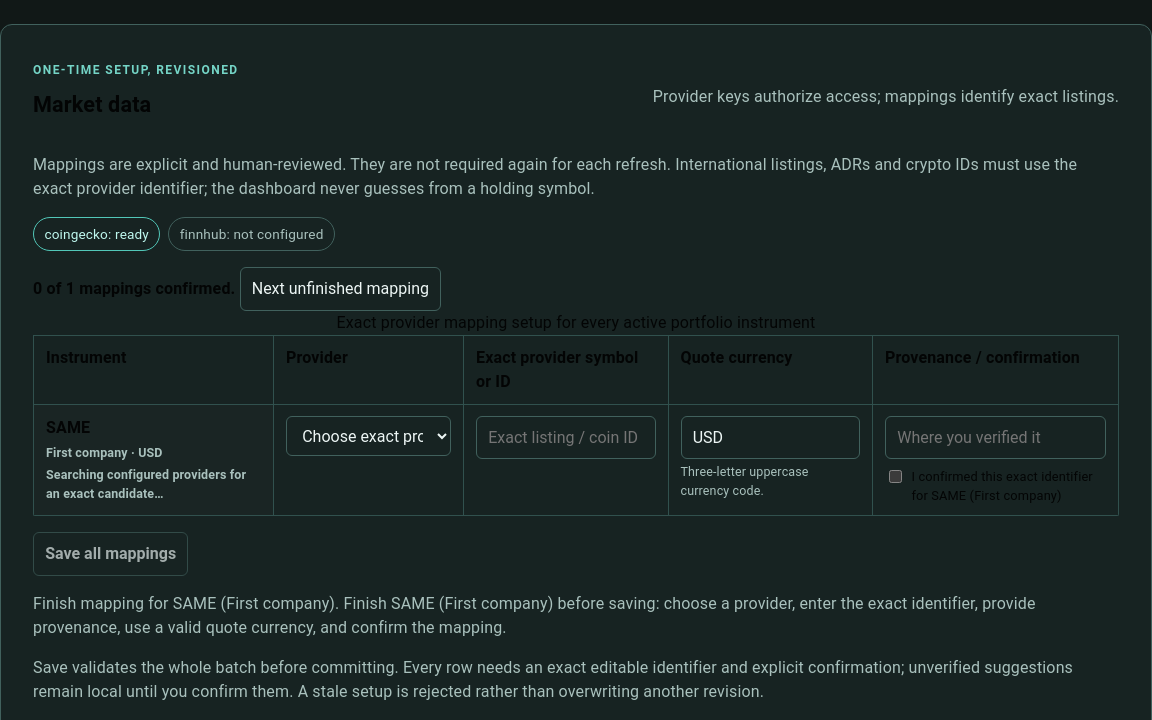
Scenario: MarketDataPanel › blocks a mapping with invalid quote currency USDD without a save request
This screenshot has width=1152, height=720.
Select "coingecko" in the dropdown: (368, 436) left=286, top=416, right=451, bottom=456
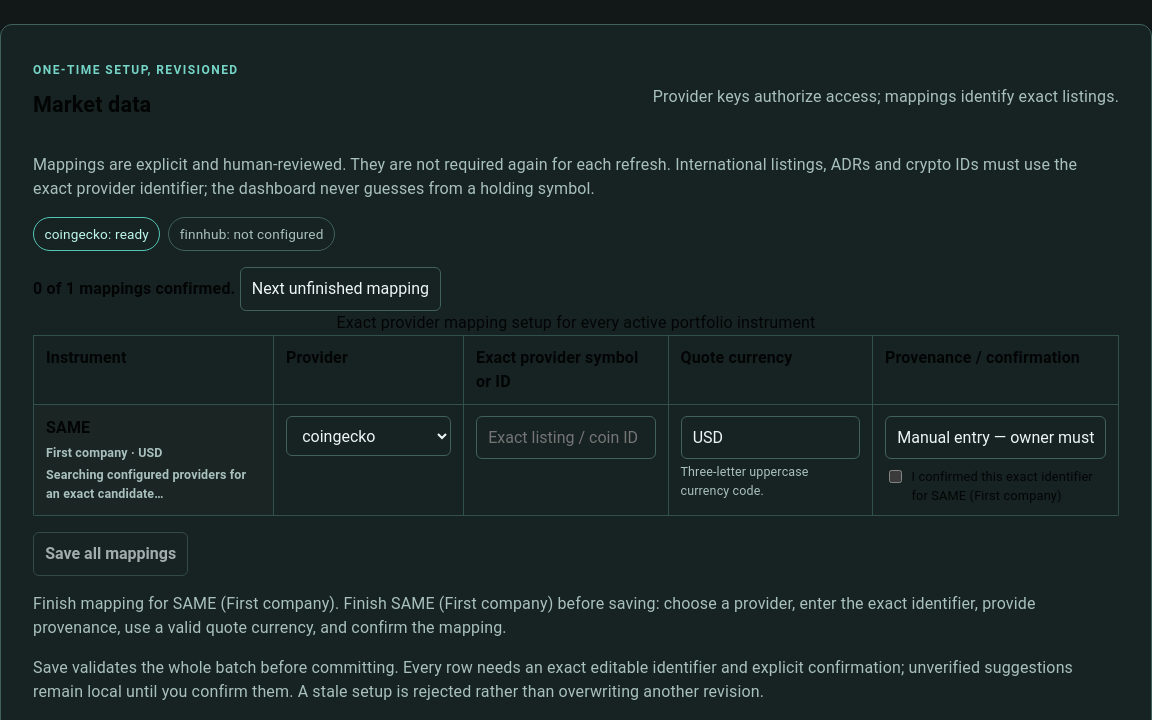
In the field with placeholder "Exact listing / coin ID": (566, 438) left=476, top=416, right=656, bottom=459, type "coin-0"
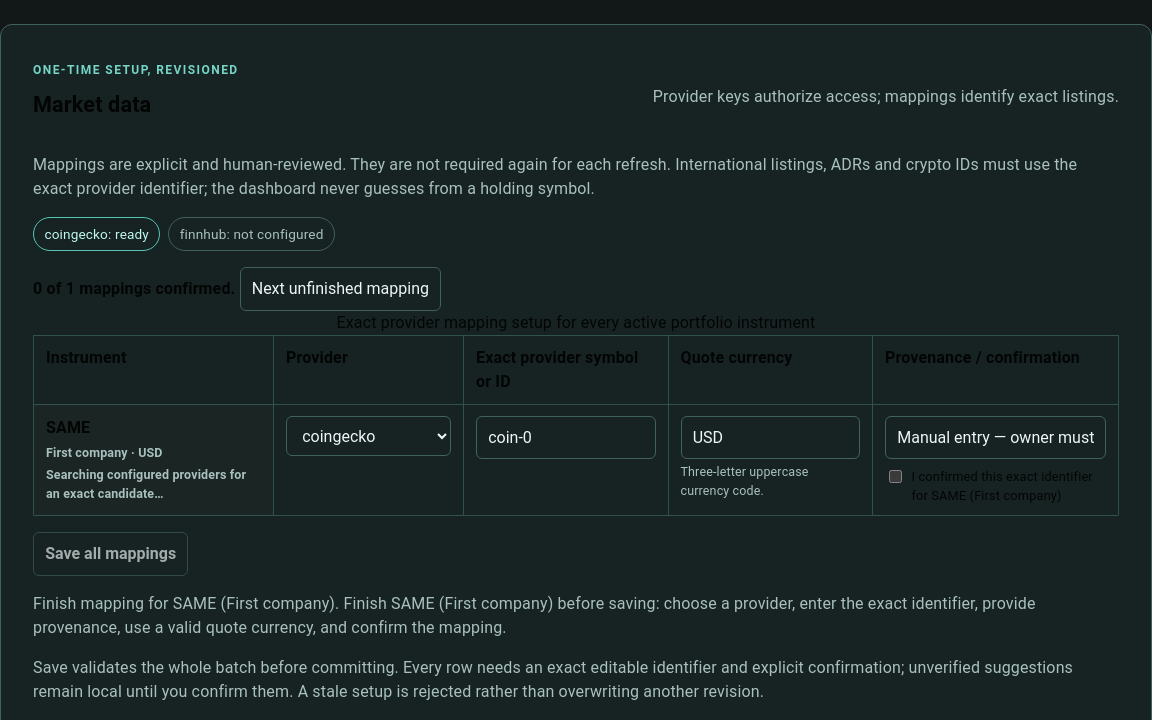
Replace the text in the field with placeholder "Where you verified it" with "provider listing": (996, 438) left=885, top=416, right=1106, bottom=459
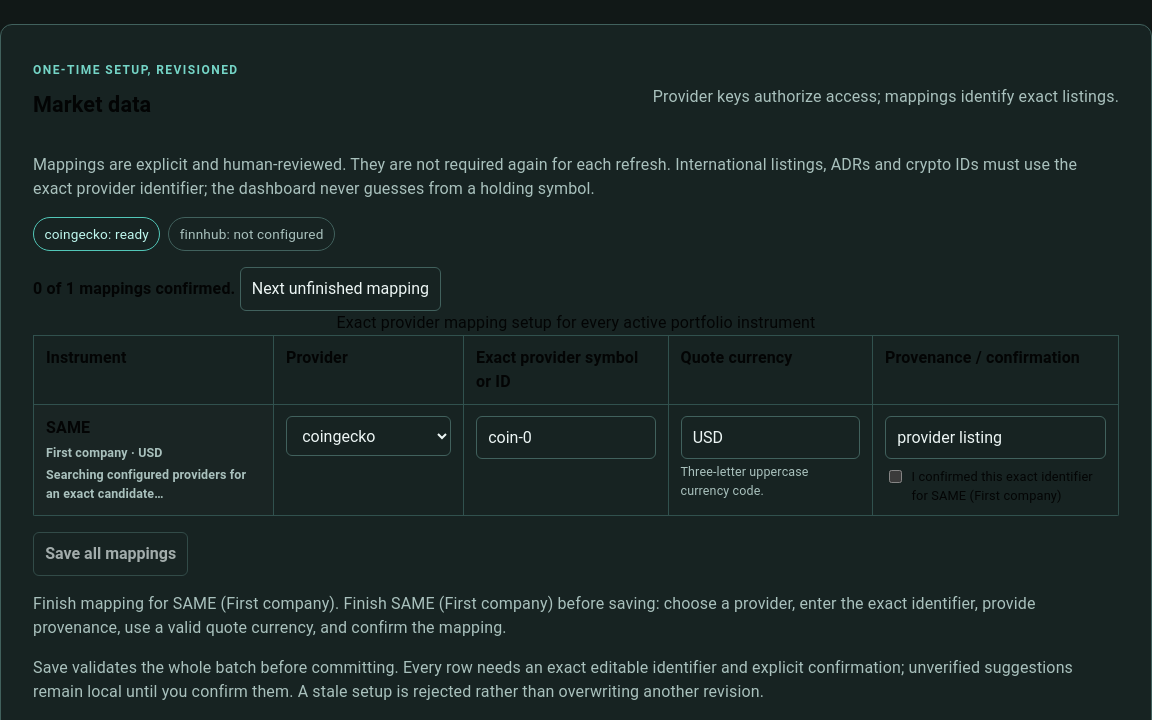
Click the checkbox: click(896, 476) left=889, top=470, right=902, bottom=482
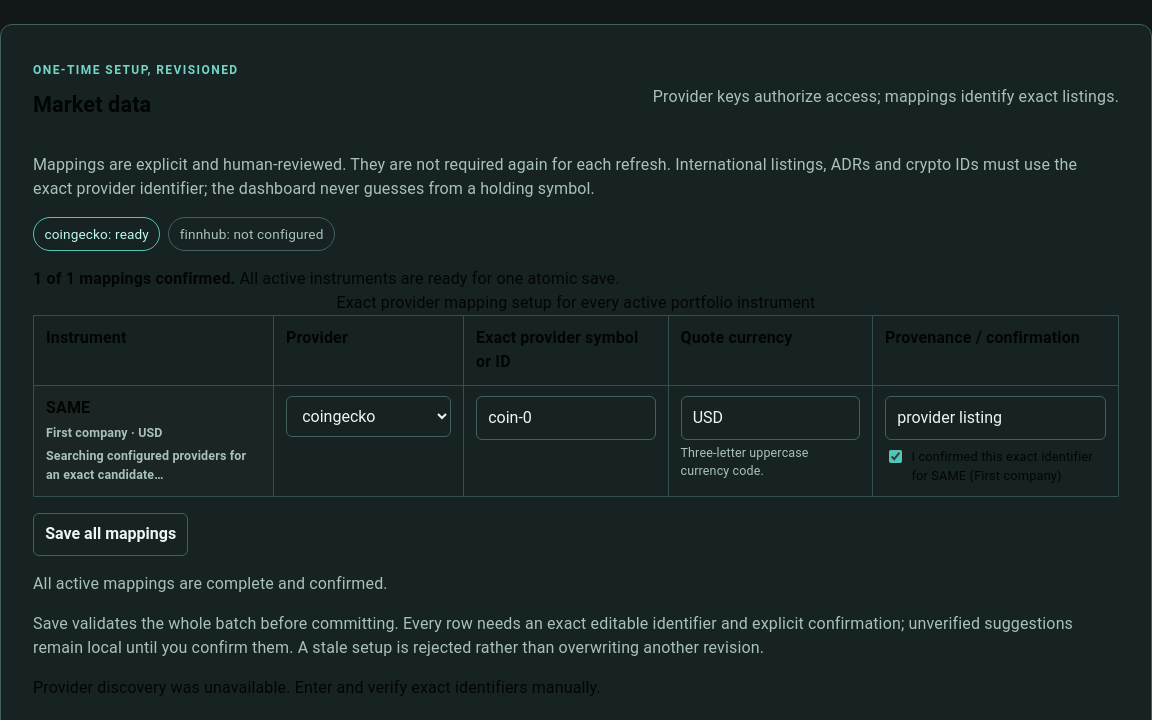
Replace the text in the field named "Quote currency for SAME (First company)" with "USDD": (770, 418) left=680, top=396, right=860, bottom=440
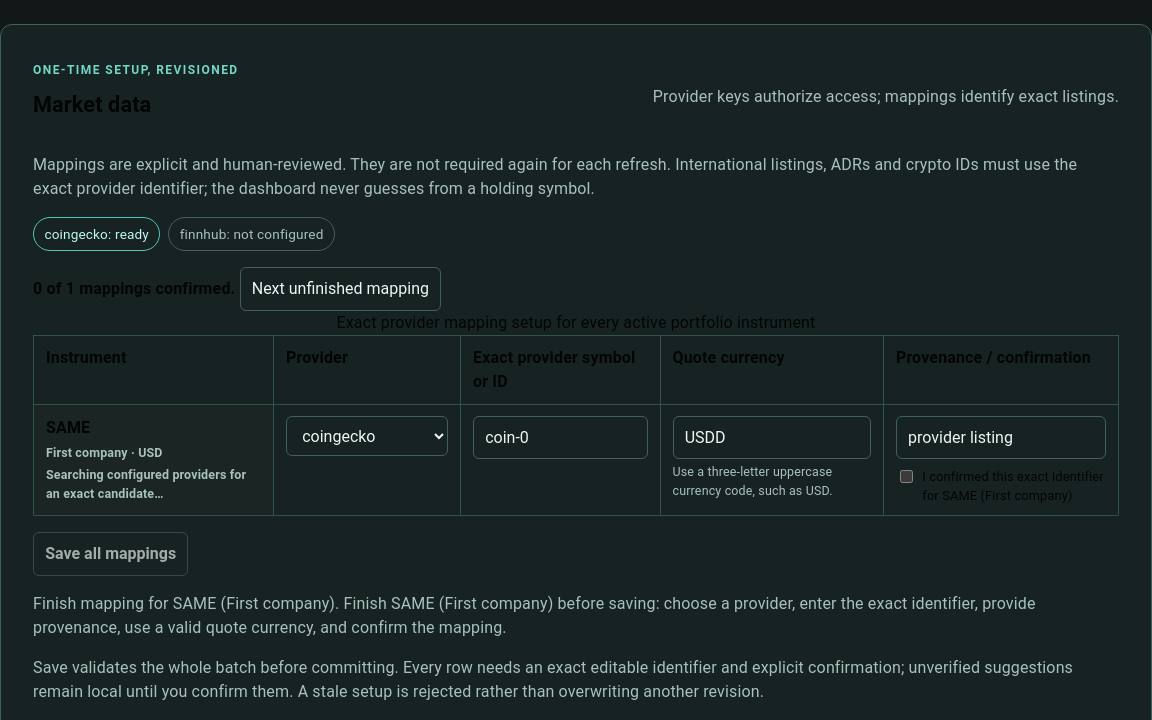
Expected: the text "Use a three-letter uppercase currency code, such as USD." is shown, left=672, top=464, right=833, bottom=498
Now the button "Save all mappings" is disabled, box left=33, top=532, right=188, bottom=576
